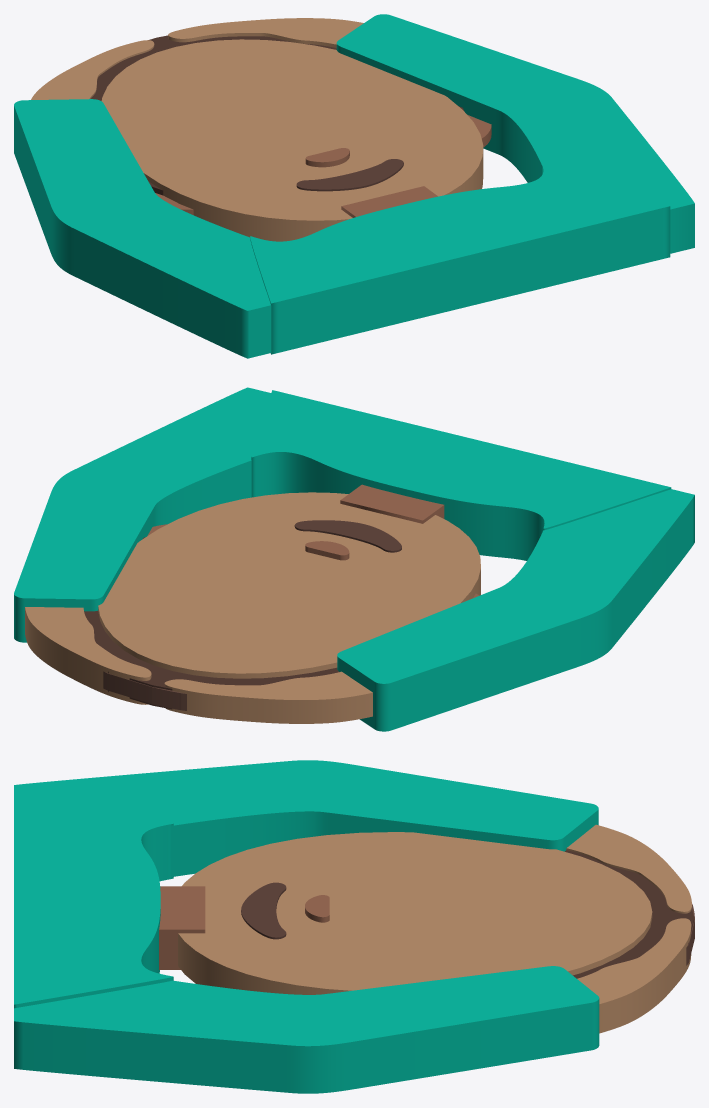
Rendered from emoji_u1f646_1f3fd_200d_2642.glb.
3 views of the same model, one above another, from view 1: azimuth 30°, elevation 25°; view 2: azimuth 150°, elevation 25°; view 3: azimuth 270°, elevation 25° (orthographic). The views are drawn at different scales.
Visible parts, largest first — view 1: emoji_u1f646_1f3fd_200d_2642; view 2: emoji_u1f646_1f3fd_200d_2642; view 3: emoji_u1f646_1f3fd_200d_2642.
Part boxes in pixels (bbox=[...]): emoji_u1f646_1f3fd_200d_2642: bbox=[14, 14, 694, 358]; emoji_u1f646_1f3fd_200d_2642: bbox=[14, 387, 694, 731]; emoji_u1f646_1f3fd_200d_2642: bbox=[14, 760, 694, 1093].
Size of the model in its own units: 0.0333 by 0.003 by 0.0337.
